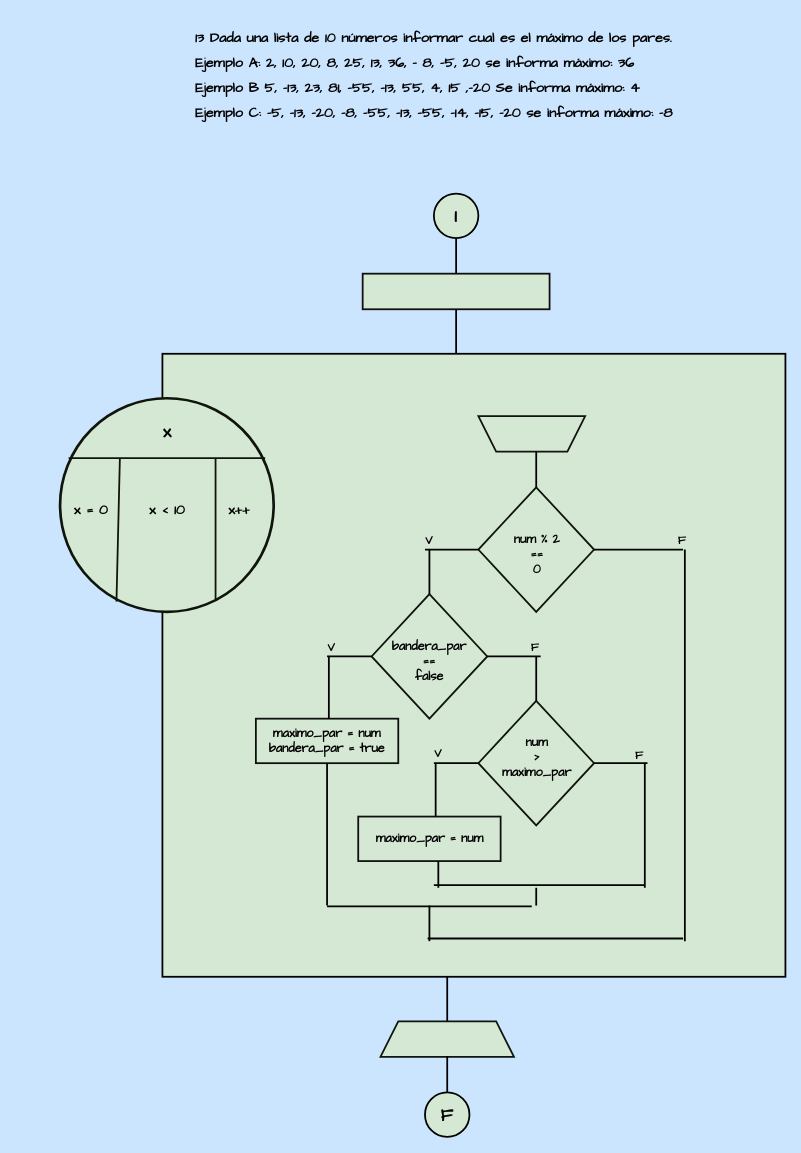
Image size: 801x1153. Some labels were removed from this diagram. Here are the shapes that lost their labels. From the top down, the centre of each, then its label:
the point at 455,291: bool bandera_par = false
the point at 531,433: num
the point at 446,1038: maximo_par
